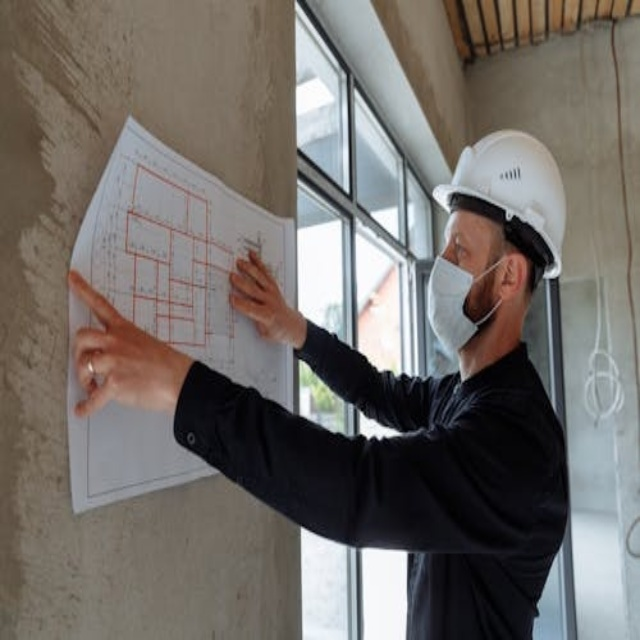Mascara: (427, 244, 504, 358)
Sin_gafas: (440, 229, 490, 269)
Sin_guantes: (64, 259, 169, 425), (225, 244, 293, 342)
